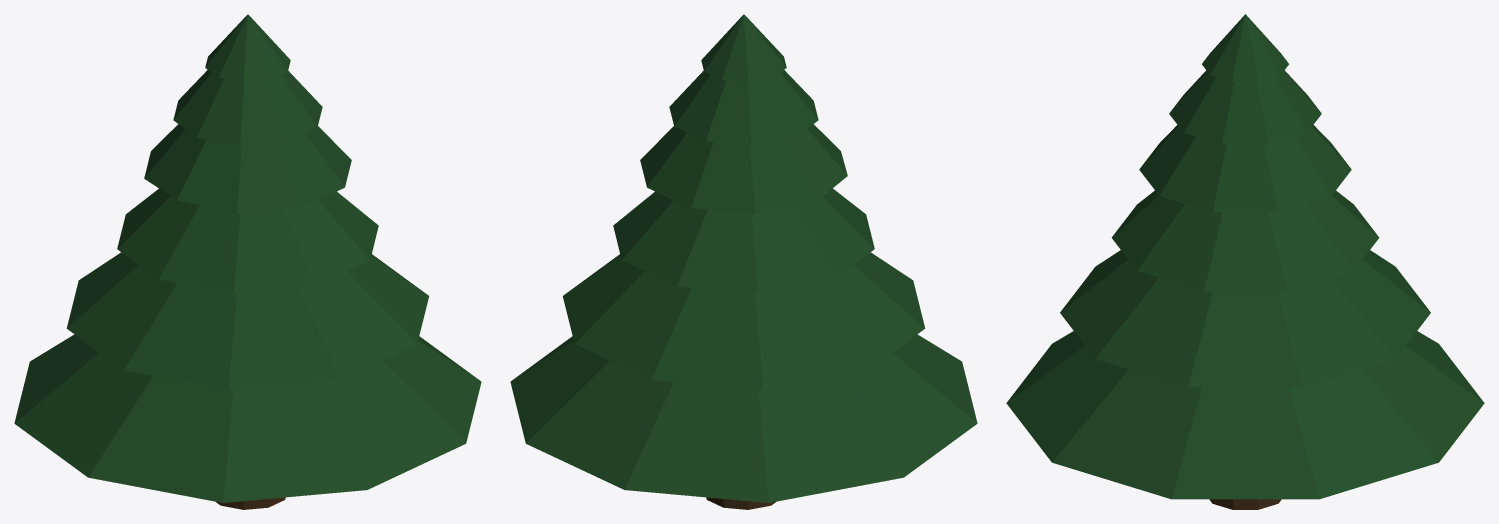
The model's file is Tree2.fbx.
3 views of the same model, side by side, from view 1: azimuth 30°, elevation 25°; view 2: azimuth 150°, elevation 25°; view 3: azimuth 270°, elevation 25° (orthographic).
Visible parts, largest first — view 1: Cylinder; view 2: Cylinder; view 3: Cylinder.
Part boxes in pixels (left/top/right/bottom): Cylinder: left=14, top=14, right=481, bottom=509; Cylinder: left=510, top=14, right=977, bottom=509; Cylinder: left=1006, top=14, right=1484, bottom=509.
Bounding box in the file's own units: 223 × 259 × 235.
